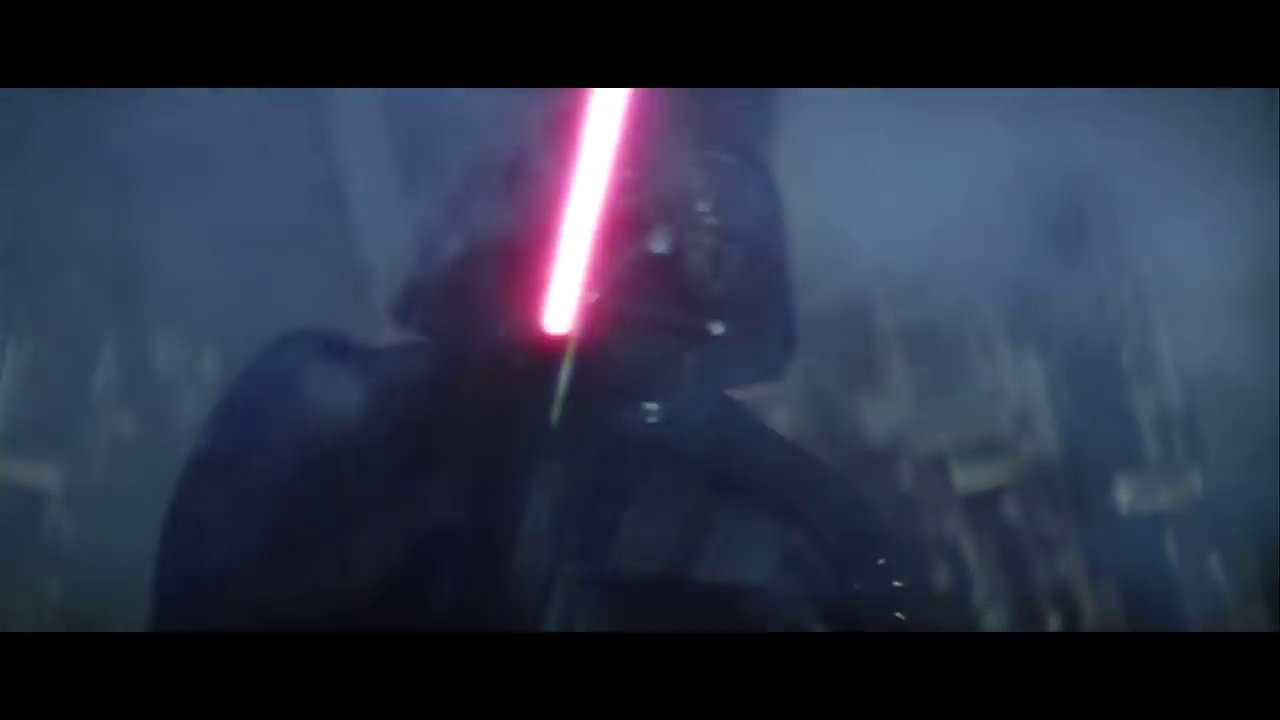lightsaber: (512, 90, 639, 431)
